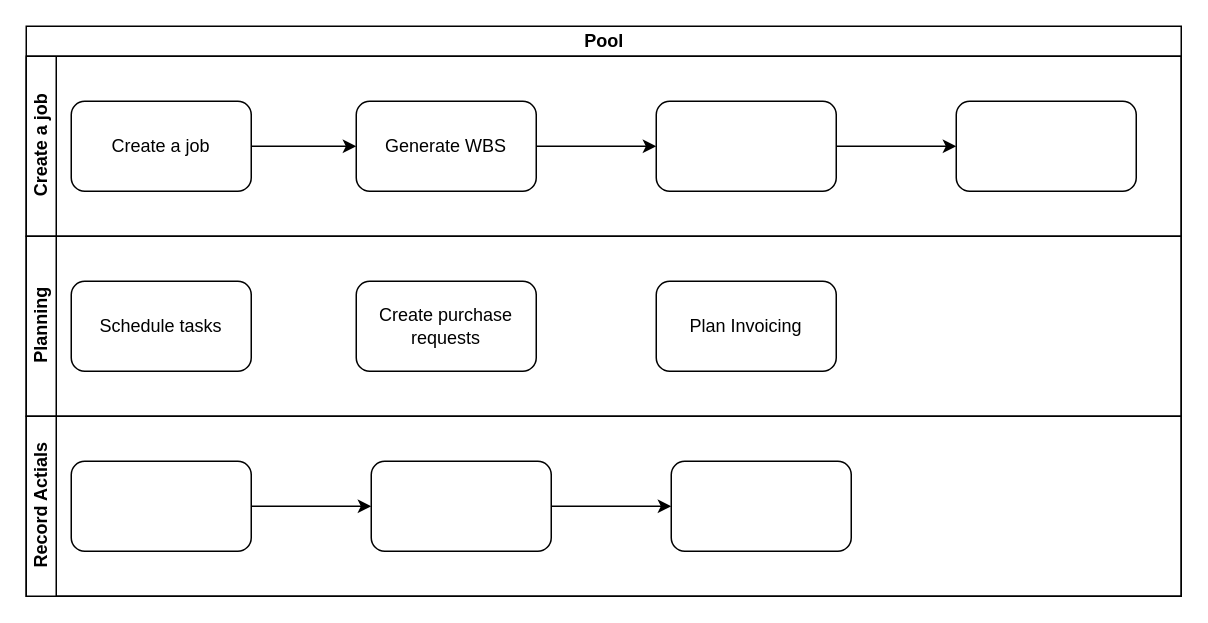
The diagram is 1208 pixels wide and 623 high, and some of its shapes have lost their labels. Here are the shapes that lost their labels. From the top down, the centre of each, then its label:
At (745,145): "Assign Resources and Costs".
At (1045,145): "Save Baseline".
At (160,505): "Capture hours".
At (460,505): "Purchases".
At (760,505): "Invoicing".
